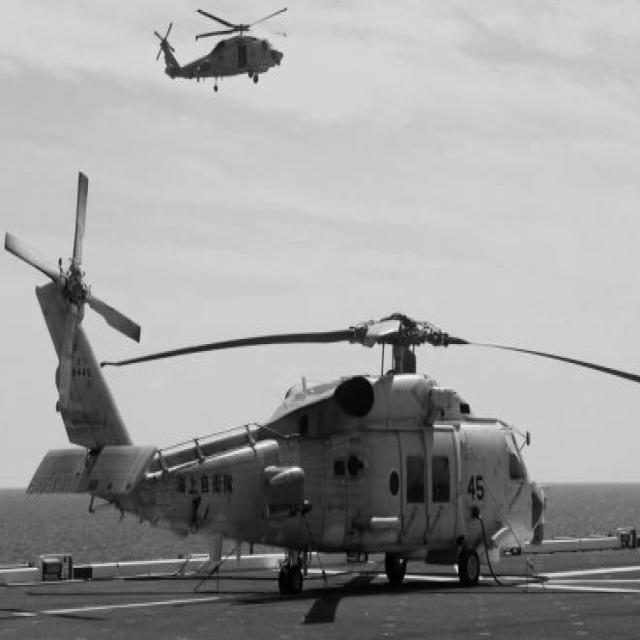helicopter: (6, 163, 640, 627), (145, 1, 302, 109)
